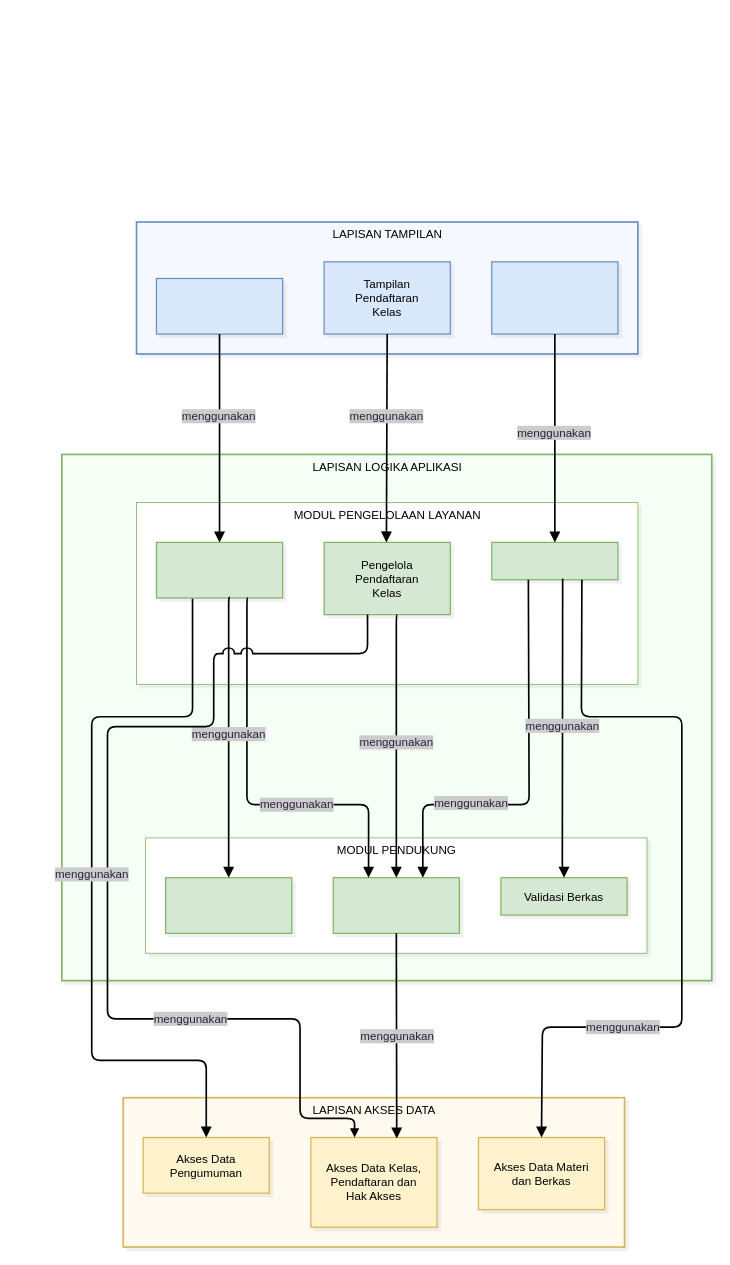
This 730x1265 diagram has some shape labels left out. Here are the shapes that lost their labels. From the top down, the centre of each, then its label:
At (x=220, y=307): "Tampilan Pengumuman".
At (x=556, y=299): "Tampilan Materi (Unggah dan Akses)".
At (x=220, y=571): "Pengelola Pengumuman".
At (x=556, y=562): "Pengelola Materi".
At (x=230, y=907): "Pengiriman Notifikasi".
At (x=397, y=907): "Validasi Hak Akses".
